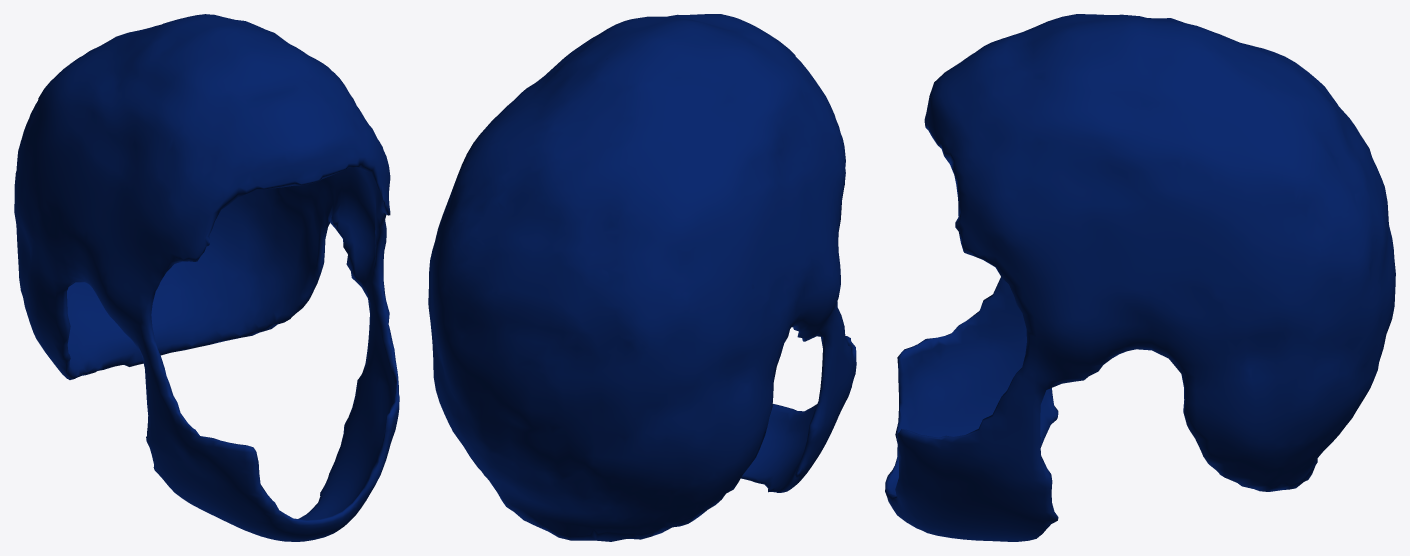
Rendered from hairs.glb.
The picture shows the model from 3 angles, left to right: view 1: azimuth 30°, elevation 25°; view 2: azimuth 150°, elevation 25°; view 3: azimuth 270°, elevation 25°; orthographic projection. The views are drawn at different scales.
Visible parts, largest first — view 1: Mesh.004; view 2: Mesh.004; view 3: Mesh.004.
Boxes of the visible parts, x1,y1,x2,y2 form: Mesh.004: (14, 14, 399, 541); Mesh.004: (428, 14, 856, 541); Mesh.004: (885, 14, 1395, 541).
Bounding box in the file's own units: 2 × 3.02 × 2.78.
